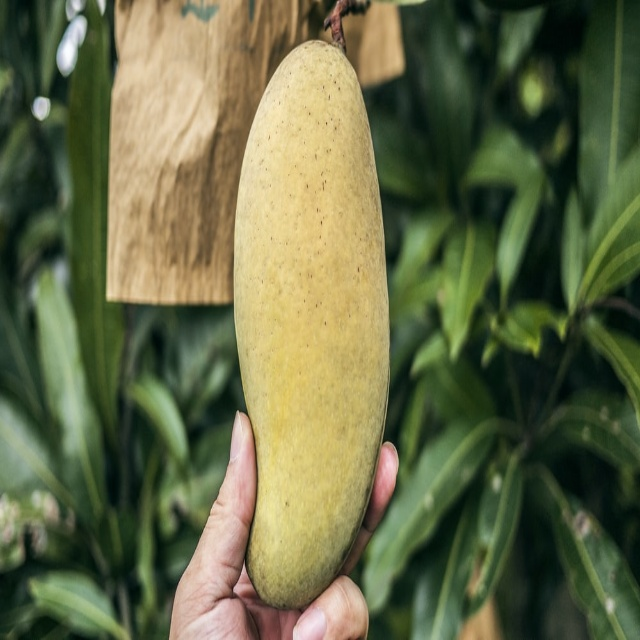mango: (208, 41, 394, 602)
